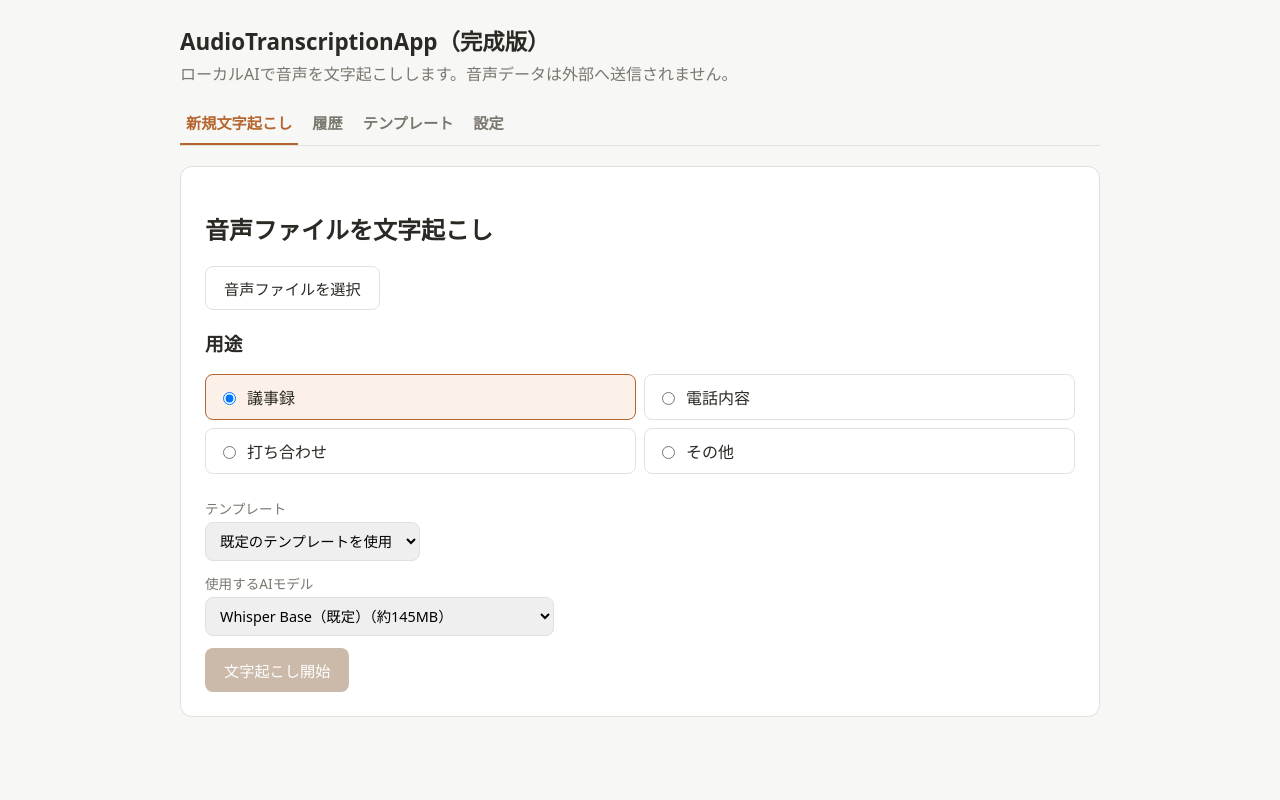
App（完成版 画面遷移） › ファイル選択→文字起こし開始→詳細画面（結果確認）までの一連の流れが動作する
The width and height of the screenshot is (1280, 800).
Later steps or results of the test are not shown.
Click the button "音声ファイルを選択": [292, 288] box [205,266,380,310]
(page scrolled)
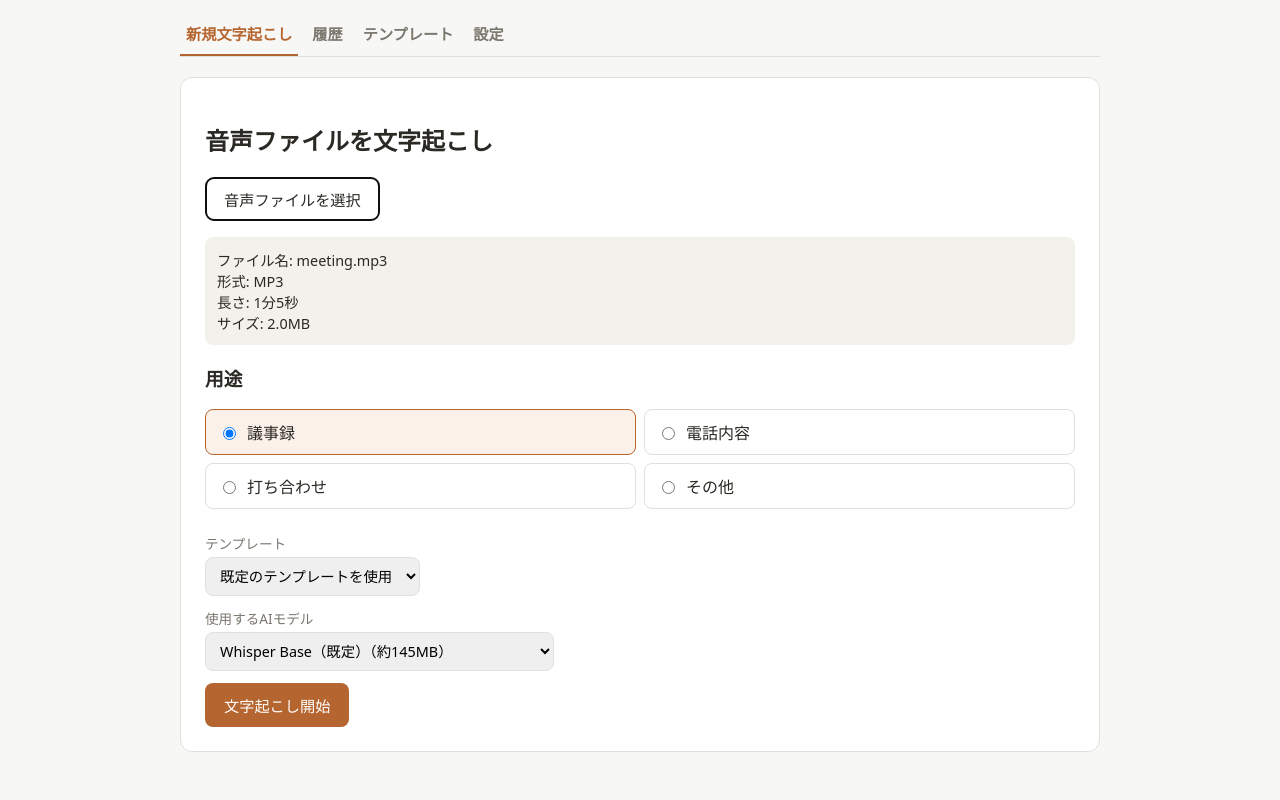
Expected: the element with test id "file-info" is shown, [205,237,1075,345]
Expected: the element with test id "file-info" shows "meeting.mp3", [297,251,387,270]
